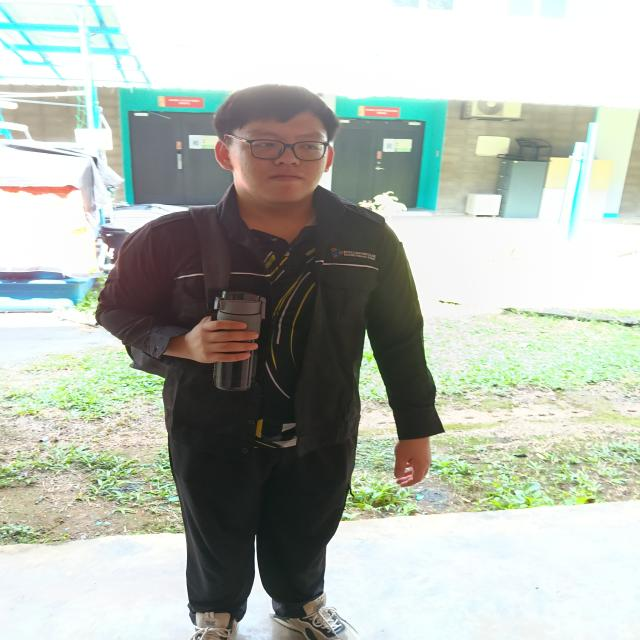person_with_labcoat: (96, 85, 442, 640)
